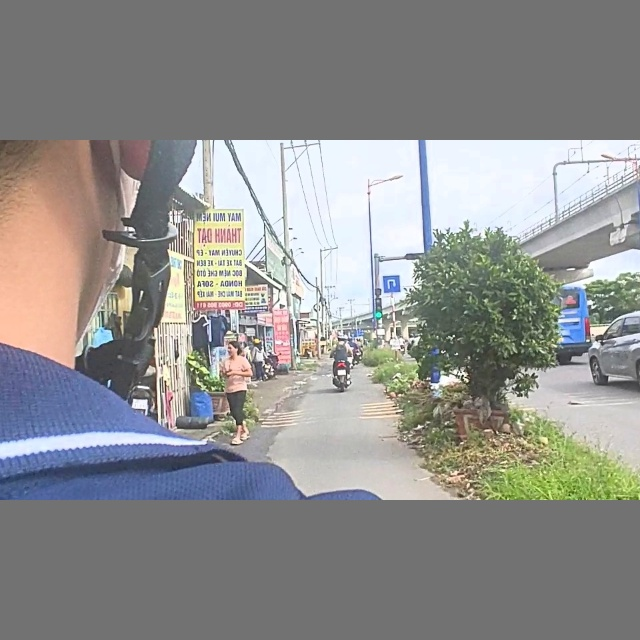I.409: (381, 273, 401, 294)
